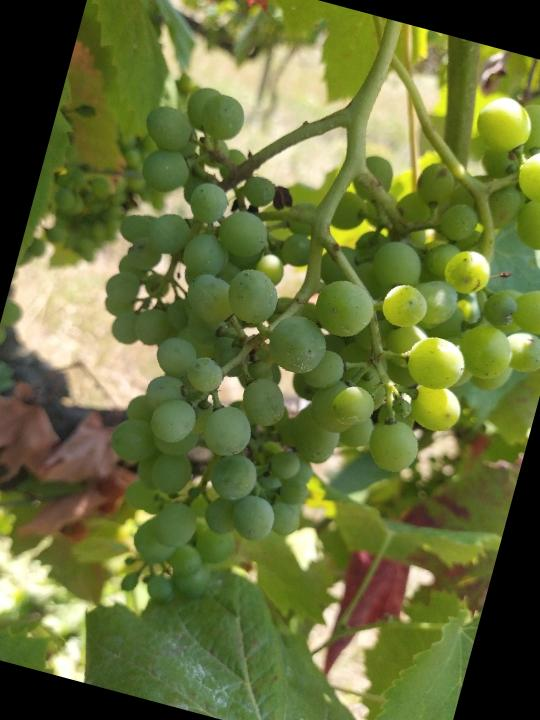grape: (22, 3, 540, 682)
